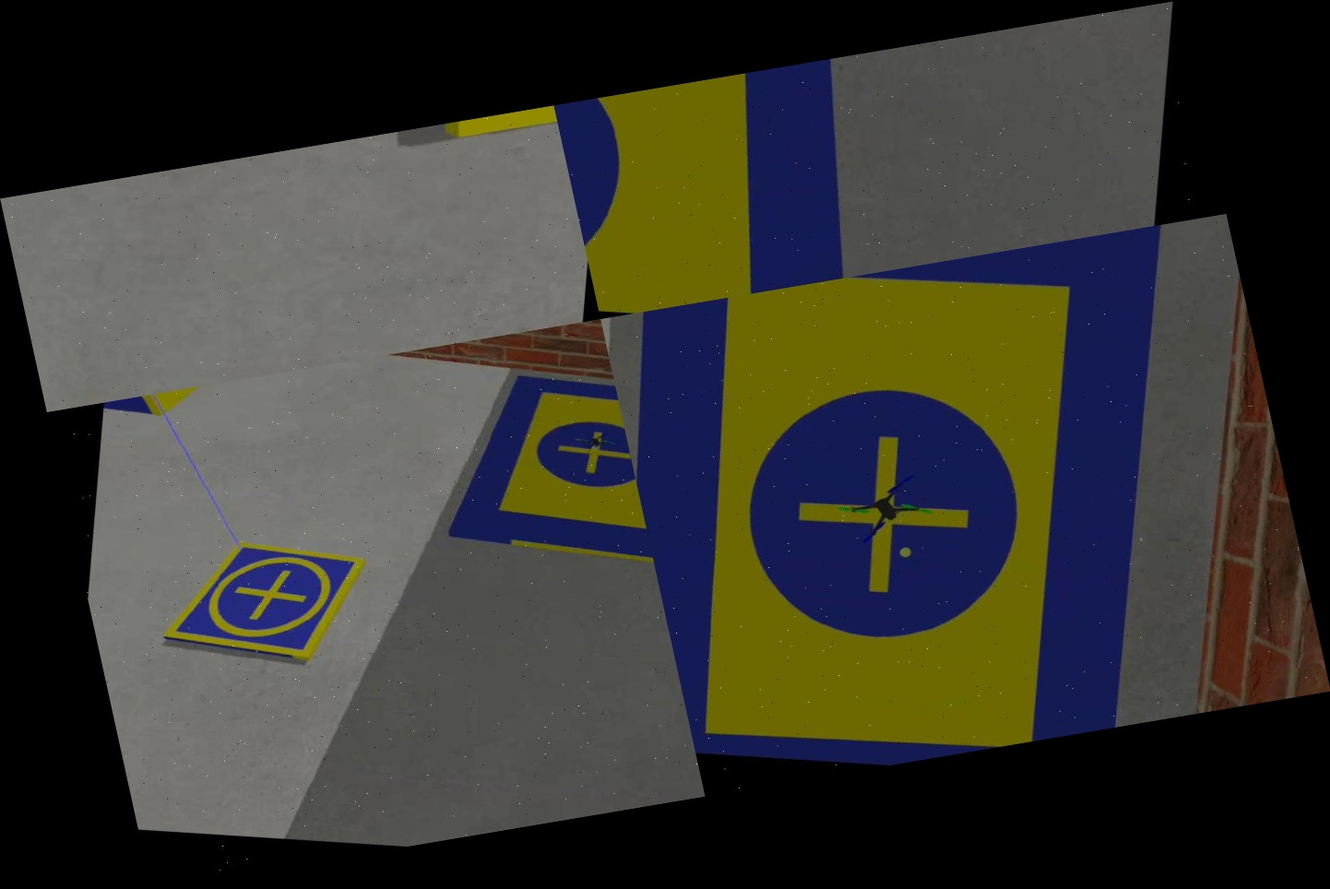large_base: (600, 223, 1272, 796), (554, 48, 941, 319), (411, 345, 658, 611)
small_base: (140, 508, 386, 698)
